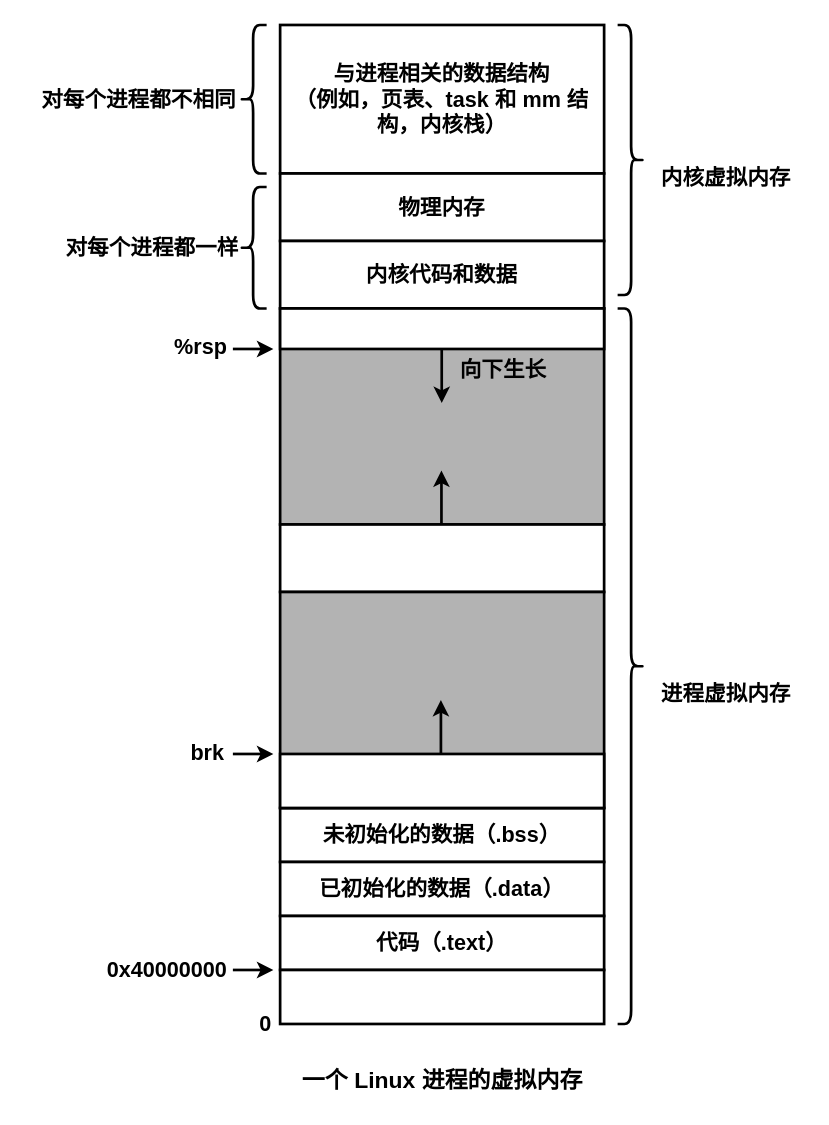
Some shapes in this 829 by 1125 pixel diagram are drawn without their labels. The shapes that lost their labels are listed below. From the top down, each one's centre as x and y in pixels, then its label:
the point at 441,328: 用户栈
the point at 441,557: 共享库的内存映射区域
the point at 441,780: 运行时堆（通过malloc分配）
